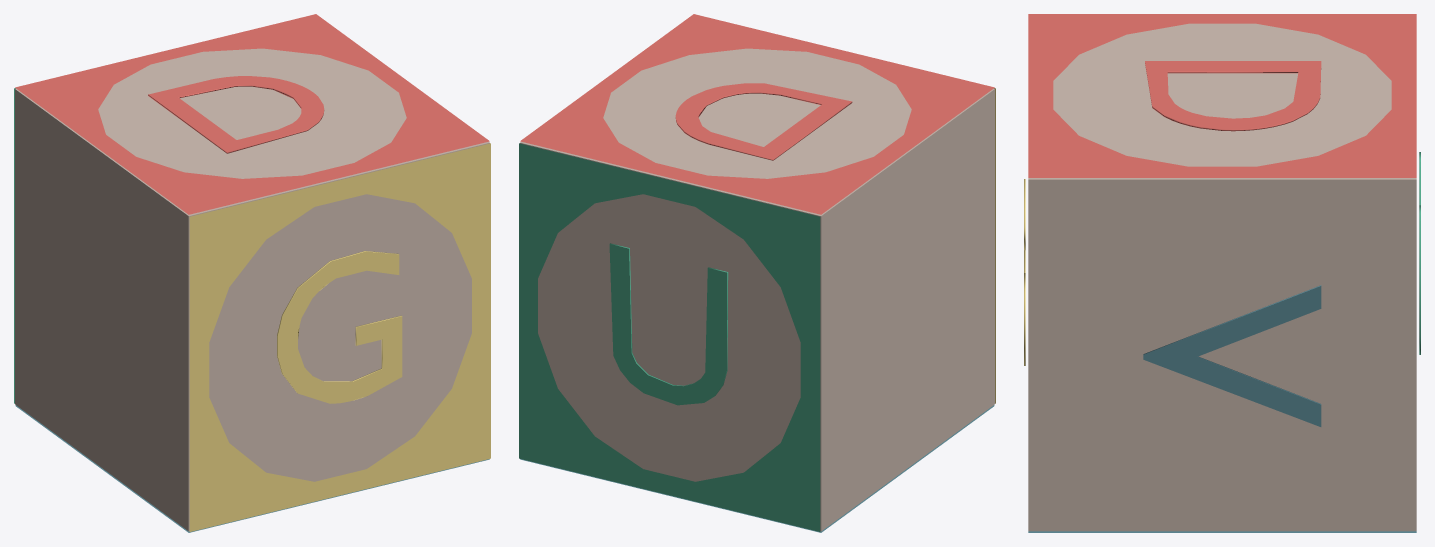
3 views of the same model, side by side, from view 1: azimuth 30°, elevation 25°; view 2: azimuth 150°, elevation 25°; view 3: azimuth 270°, elevation 25° (orthographic). The views are drawn at different scales.
Parts seen in each view (by area): view 1: cube; view 2: cube; view 3: cube.
Part boxes in pixels (x1=…): cube: x1=14, y1=14, x2=490, y2=532; cube: x1=519, y1=14, x2=995, y2=532; cube: x1=1024, y1=14, x2=1420, y2=532.
Bounding box in the file's own units: 0.0453 × 0.046 × 0.046.
